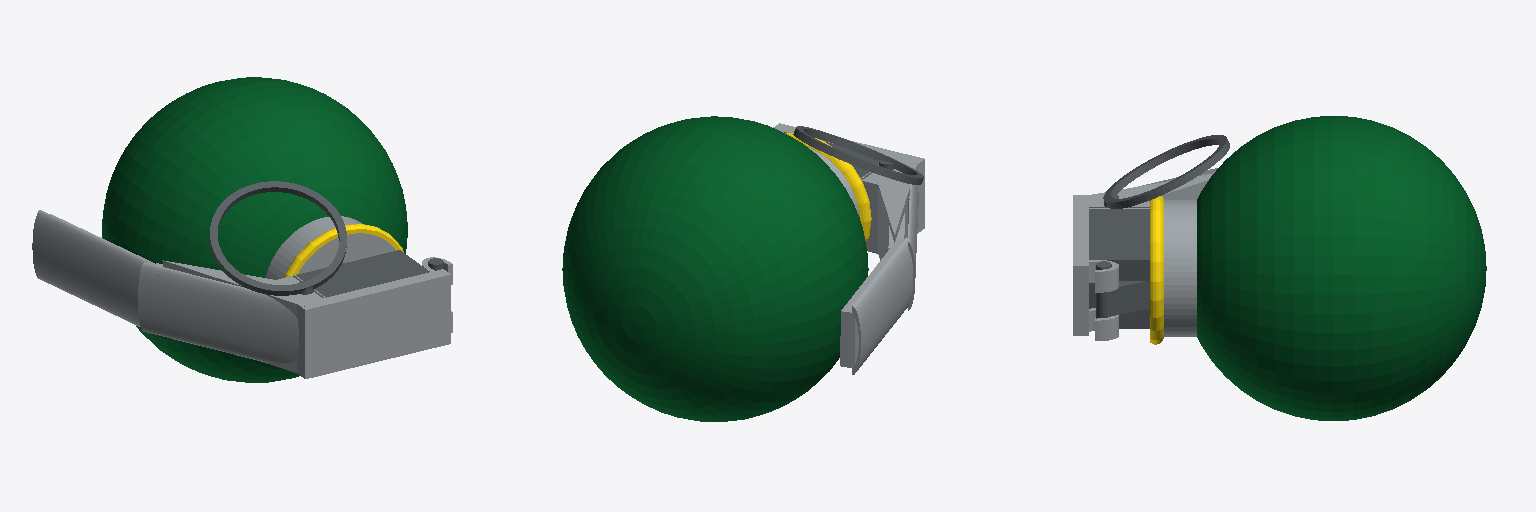
File: grenade.obj
3 renders of one model, left to right at view 1: azimuth 30°, elevation 25°; view 2: azimuth 150°, elevation 25°; view 3: azimuth 270°, elevation 25°, orthographic.
Visible parts, largest first — view 1: obj_0; view 2: obj_0; view 3: obj_0.
Boxes of the visible parts, x1,y1,x2,y2 form: obj_0: [32, 77, 452, 382]; obj_0: [562, 116, 924, 421]; obj_0: [1073, 116, 1486, 420].
Bounding box in the file's own units: 23.88 × 20 × 27.